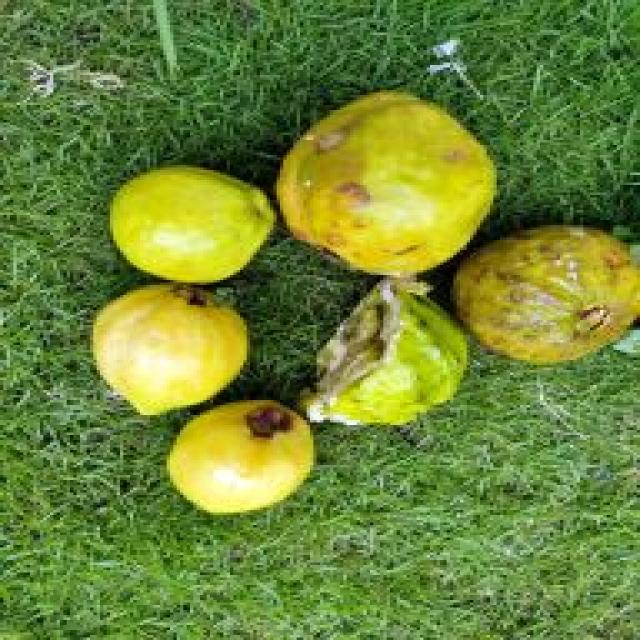Organik: (266, 88, 504, 284), (440, 220, 640, 378), (304, 290, 490, 444), (67, 152, 276, 280), (91, 284, 259, 422), (151, 390, 321, 522)
